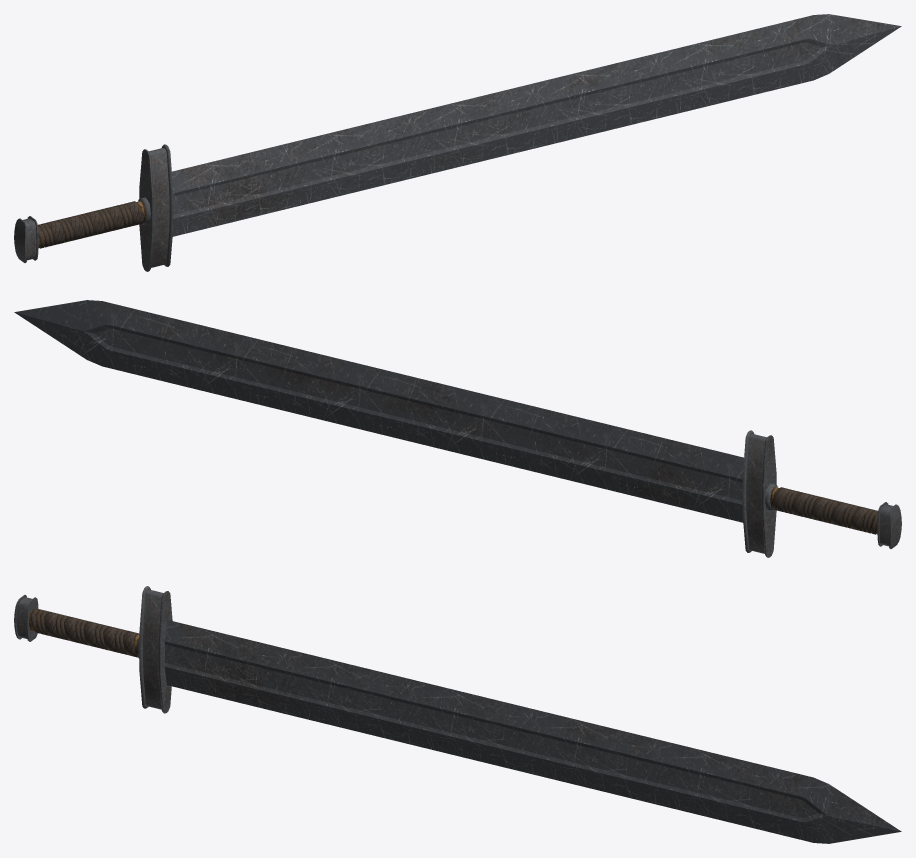
Rendered from GreatSword.obj.
3 renders of one model, top to bottom at view 1: azimuth 30°, elevation 25°; view 2: azimuth 150°, elevation 25°; view 3: azimuth 330°, elevation 25°, orthographic.
Visible parts, largest first — view 1: Viking_Sword_Cube.001; view 2: Viking_Sword_Cube.001; view 3: Viking_Sword_Cube.001.
Boxes of the visible parts, x1,y1,x2,y2 form: Viking_Sword_Cube.001: (14,14,901,271); Viking_Sword_Cube.001: (14,300,901,557); Viking_Sword_Cube.001: (14,586,901,843).
Bounding box in the file's own units: 95.48 × 12.51 × 2.49.
1 material, 1 textured.
